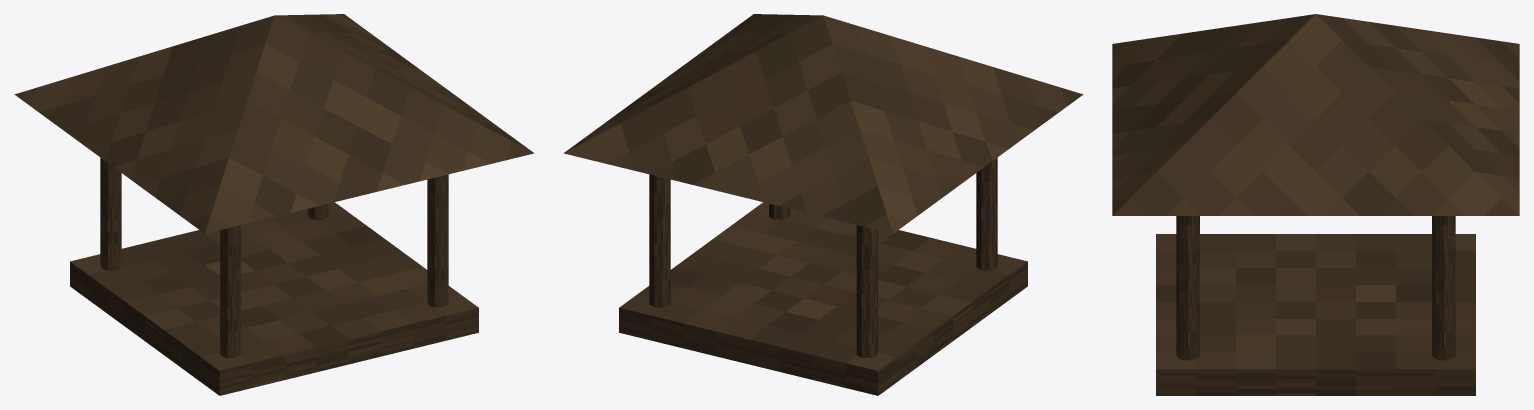
Rendered from pavilion_42.glb.
3 renders of one model, left to right at view 1: azimuth 30°, elevation 25°; view 2: azimuth 150°, elevation 25°; view 3: azimuth 270°, elevation 25°, orthographic. The views are drawn at different scales.
Parts seen in each view (by area): view 1: Roof, Floor, Column.002, Column, Column.001; view 2: Roof, Floor, Column.003, Column.001, Column; view 3: Roof, Floor, Column.002, Column.003.
Boxes of the visible parts, x1,y1,x2,y2 form: Roof: (14, 14, 534, 233); Floor: (70, 202, 478, 395); Column.002: (427, 174, 448, 307); Column: (220, 225, 241, 357); Column.001: (100, 157, 121, 270); Roof: (563, 14, 1083, 233); Floor: (619, 202, 1027, 395); Column.003: (649, 174, 670, 307); Column.001: (856, 225, 877, 357); Column: (976, 157, 997, 270); Roof: (1112, 14, 1519, 215); Floor: (1156, 234, 1475, 395); Column.002: (1176, 216, 1199, 360); Column.003: (1432, 216, 1455, 360).
Size of the model in its own units: 4.14 by 3.52 by 4.14.
Materials: 1 (1 with a texture image).
